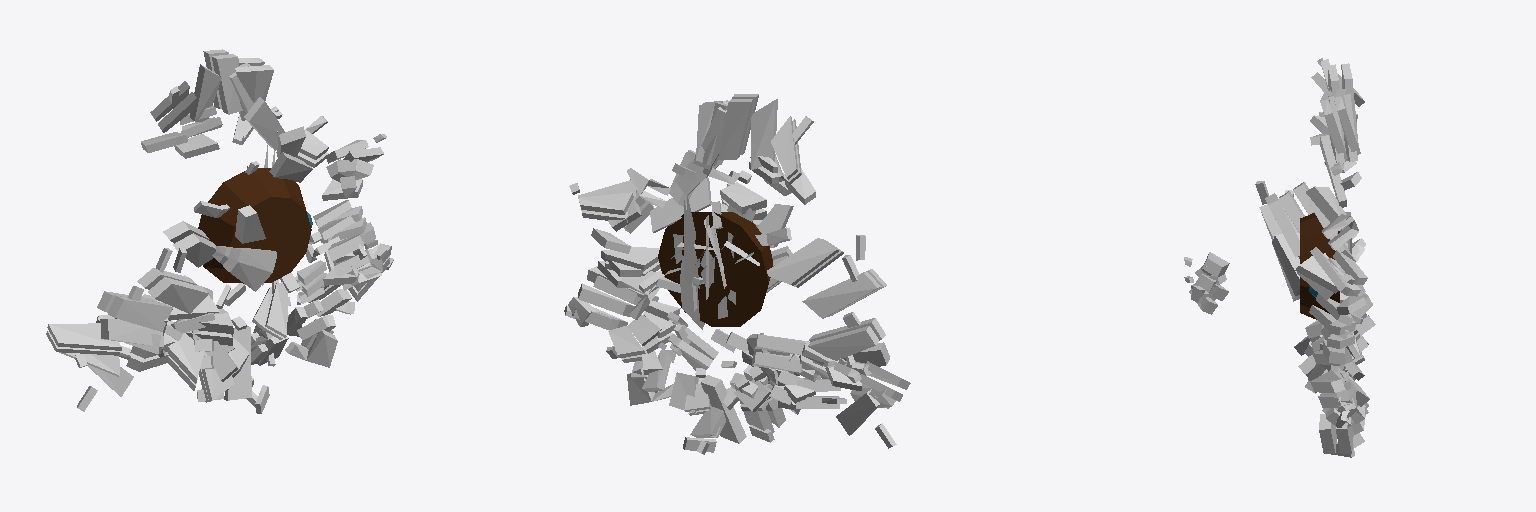
3 renders of one model, left to right at view 1: azimuth 30°, elevation 25°; view 2: azimuth 150°, elevation 25°; view 3: azimuth 270°, elevation 25°, orthographic.
Visible parts, largest first — view 1: Cone_Cone_cover, Cone.001_Cone.001_cover, Cylinder_Cylinder_Material.001; view 2: Cone_Cone_cover, Cone.001_Cone.001_cover, Cylinder_Cylinder_Material.001, Plane_Plane_Material.003; view 3: Cone_Cone_cover, Cone.001_Cone.001_cover, Cylinder_Cylinder_Material.001.
Part boxes in pixels (left/top/right/bottom): Cone_Cone_cover: left=96, top=126, right=393, bottom=413; Cone.001_Cone.001_cover: left=46, top=49, right=386, bottom=411; Cylinder_Cylinder_Material.001: left=198, top=168, right=311, bottom=283; Cone_Cone_cover: left=564, top=152, right=889, bottom=454; Cone.001_Cone.001_cover: left=569, top=94, right=910, bottom=448; Cylinder_Cylinder_Material.001: left=658, top=212, right=772, bottom=326; Plane_Plane_Material.003: left=665, top=195, right=759, bottom=329; Cone_Cone_cover: left=1184, top=182, right=1375, bottom=457; Cone.001_Cone.001_cover: left=1191, top=58, right=1368, bottom=407; Cylinder_Cylinder_Material.001: left=1300, top=213, right=1339, bottom=319.
Bounding box in the file's own units: 3.42 × 3.53 × 1.67.
4 materials, 1 textured.